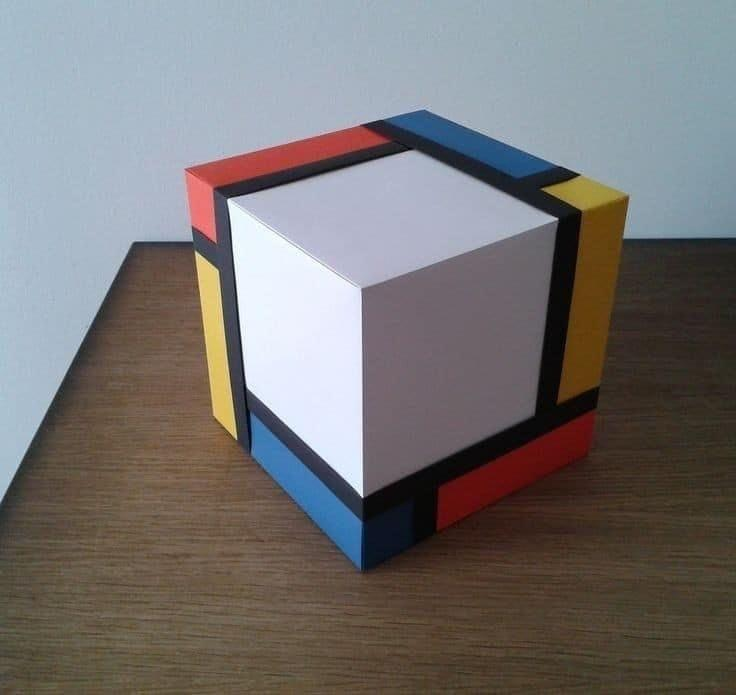cubos: (173, 88, 640, 587)
